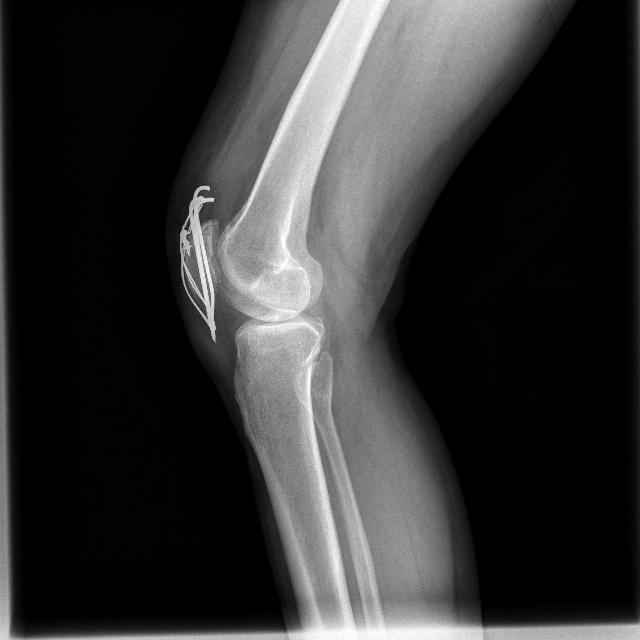Knee: (173, 182, 326, 391)
